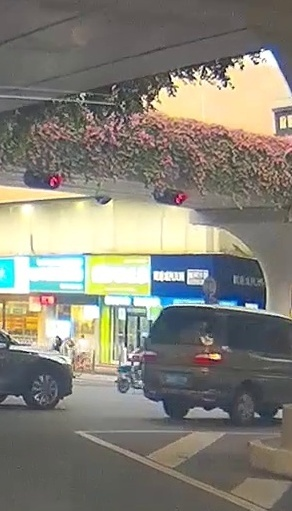L_light: (141, 351, 157, 362)
R_light: (192, 352, 223, 365)
T_light: (180, 306, 198, 311)
night-right: (140, 304, 226, 427)
